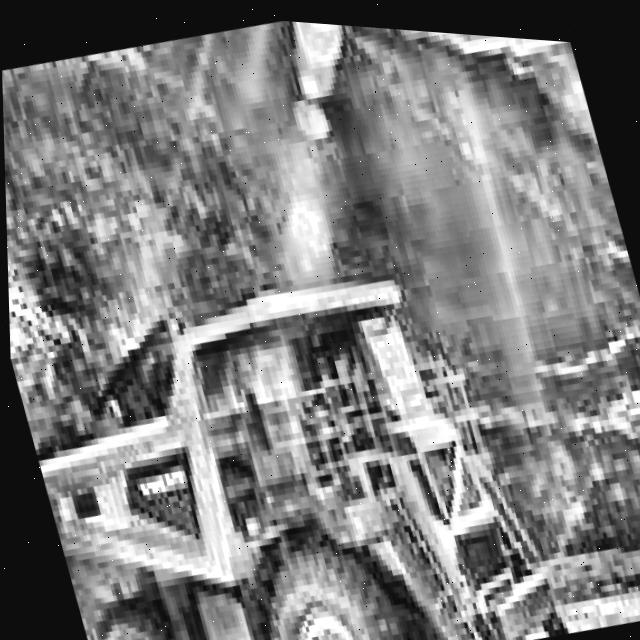dump_truck: (4, 181, 569, 640)
